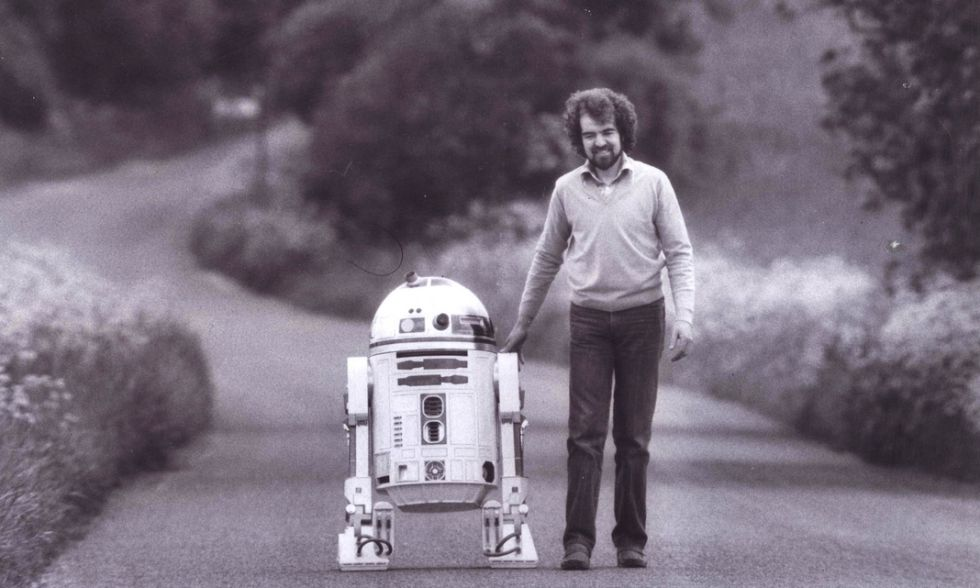r2d2: (338, 273, 536, 566)
